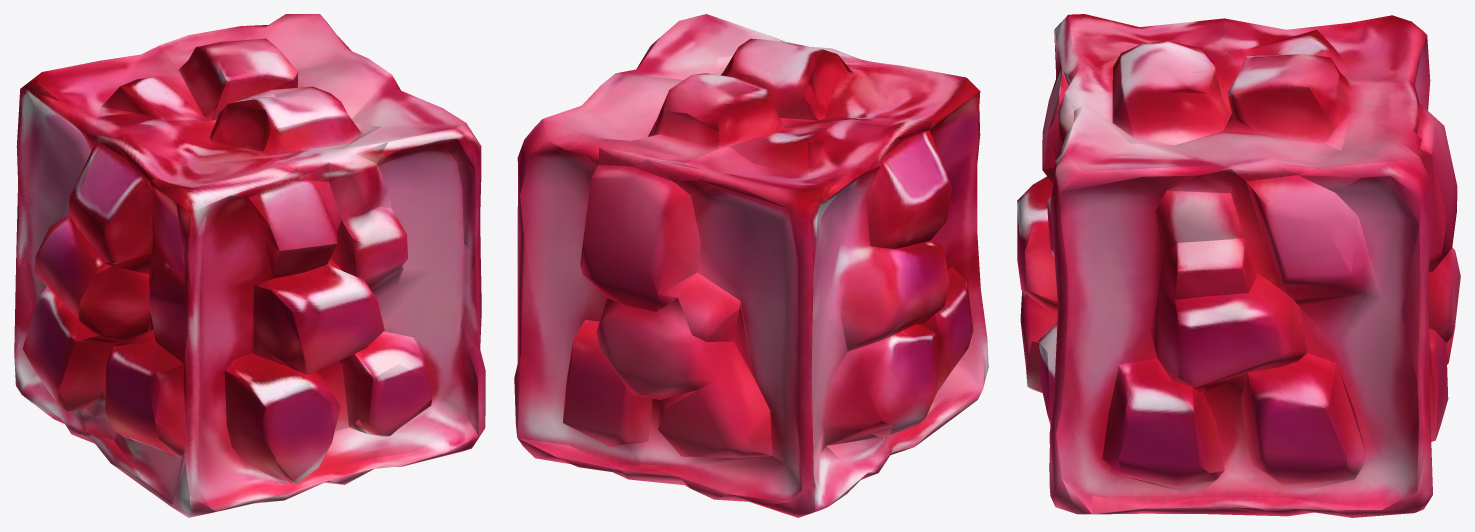
The model's file is m2JellyCube.glb.
3 renders of one model, left to right at view 1: azimuth 30°, elevation 25°; view 2: azimuth 150°, elevation 25°; view 3: azimuth 270°, elevation 25°, orthographic. The views are drawn at different scales.
Parts seen in each view (by area): view 1: model; view 2: model; view 3: model.
Part boxes in pixels (x1,y1,x2,y2): model: (14,14,485,517); model: (514,14,988,517); model: (1017,14,1460,517).
Size of the model in its own units: 1.89 by 1.75 by 1.82.
Materials: 1 (1 with a texture image).
